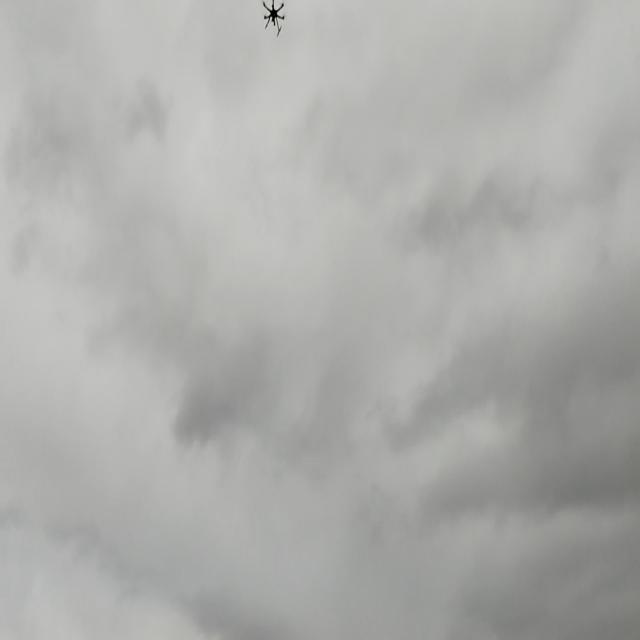drone: (262, 0, 285, 37)
